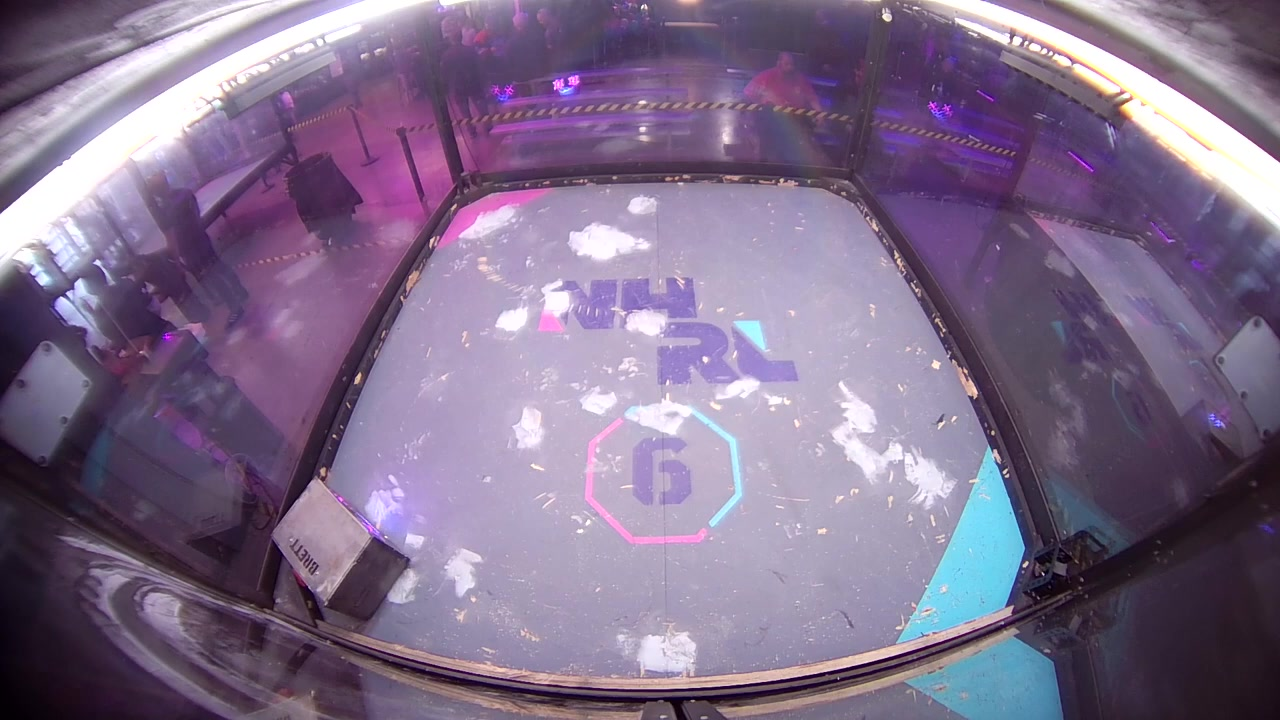housebot: (270, 473, 416, 627)
